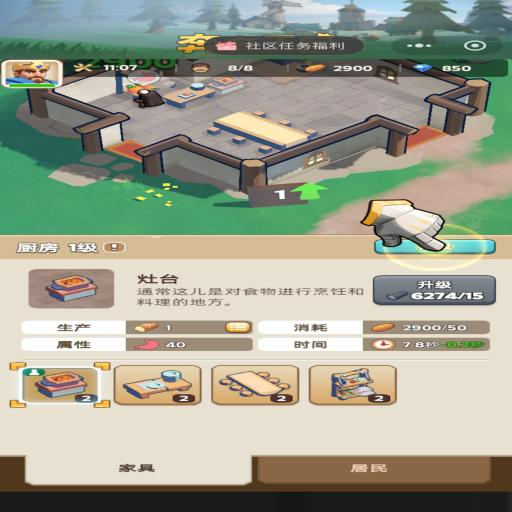newcomer_hand: (359, 200, 443, 247)
